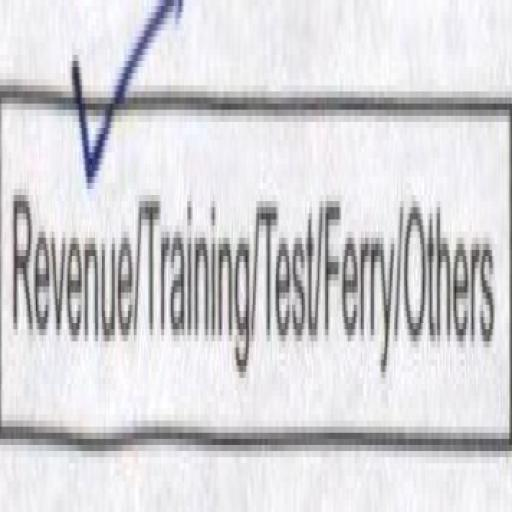check: (0, 0, 135, 451)
